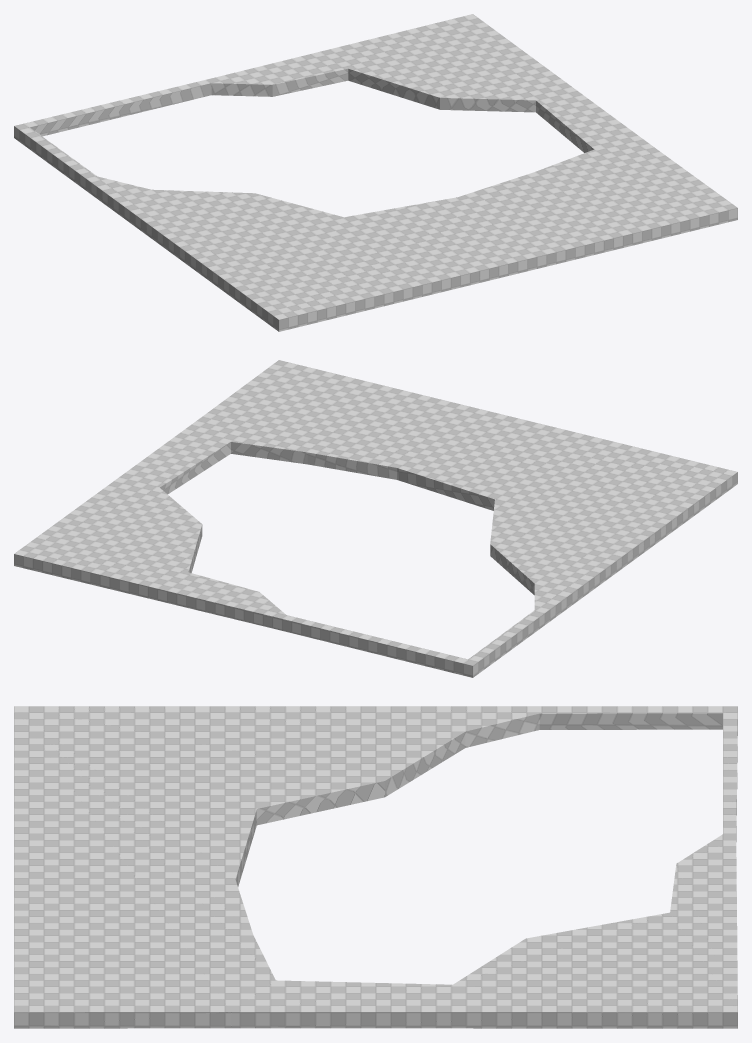
Rendered from FloorHl12x12m.fbx.
3 views of the same model, one above another, from view 1: azimuth 30°, elevation 25°; view 2: azimuth 150°, elevation 25°; view 3: azimuth 270°, elevation 25° (orthographic). The views are drawn at different scales.
Visible parts, largest first — view 1: FloorHl12x12m; view 2: FloorHl12x12m; view 3: FloorHl12x12m.
Boxes of the visible parts, x1,y1,x2,y2 form: FloorHl12x12m: [14, 14, 737, 331]; FloorHl12x12m: [14, 360, 737, 677]; FloorHl12x12m: [14, 706, 737, 1028].
Bounding box in the file's own units: 1200 × 1200 × 30.
